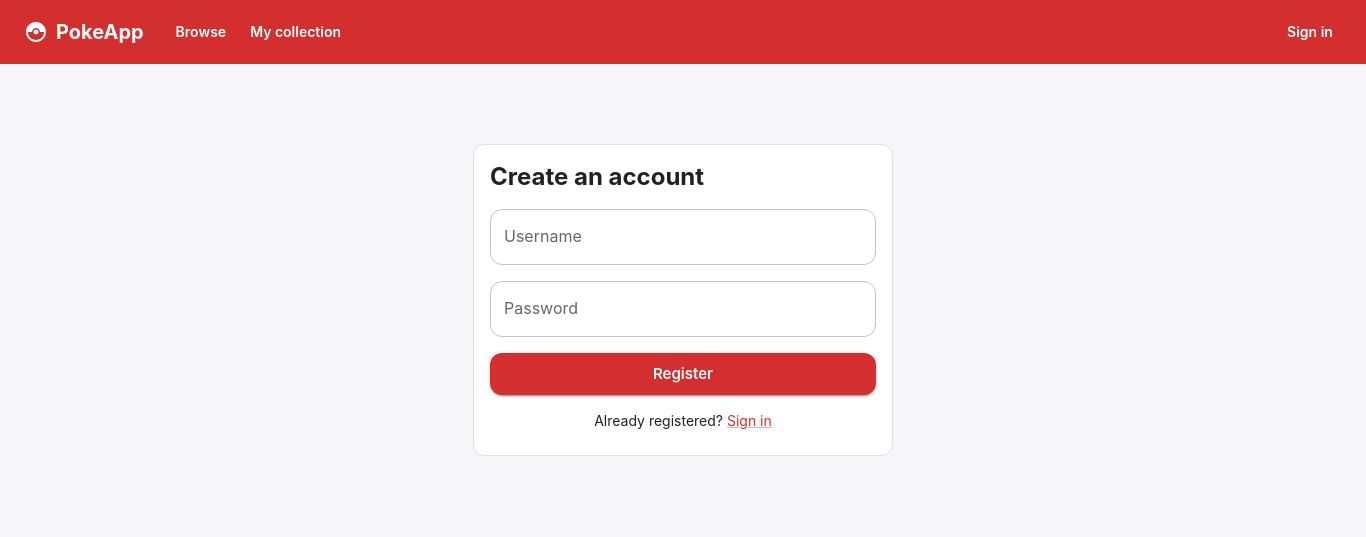
it: Authentication › maps server field errors on registration
Type "ash" into the field labelled "Username".
click(683, 237); type("ash")  # box [490, 209, 876, 265]
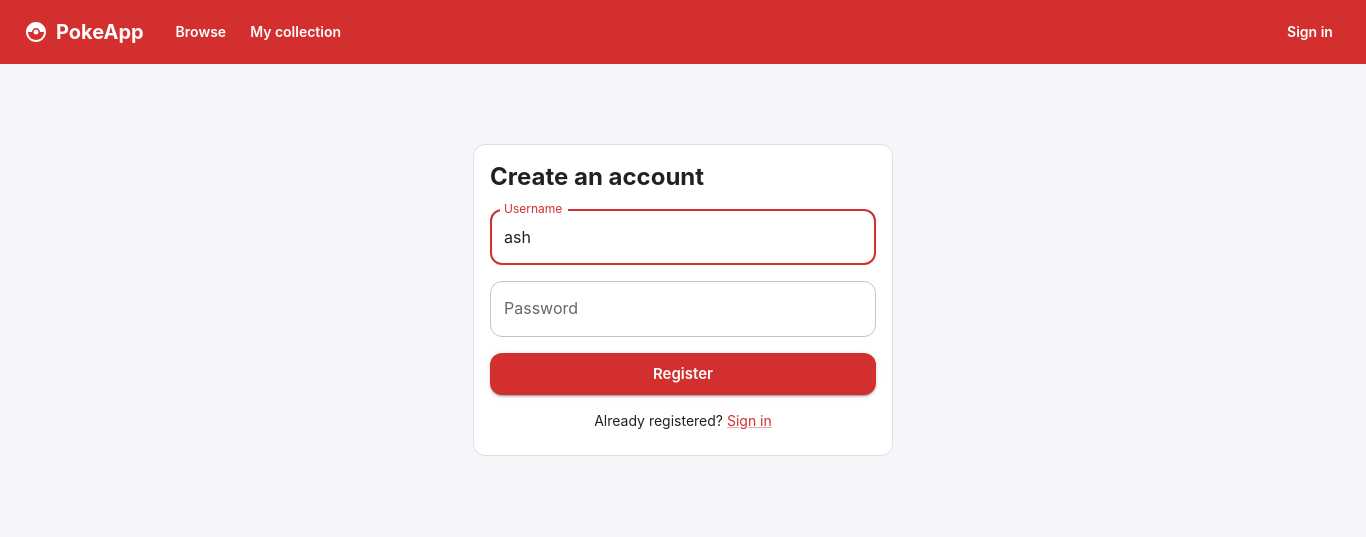
Type "pikachu123" into the password field labelled "Password".
click(683, 309); type("pikachu123")  # box [490, 281, 876, 337]
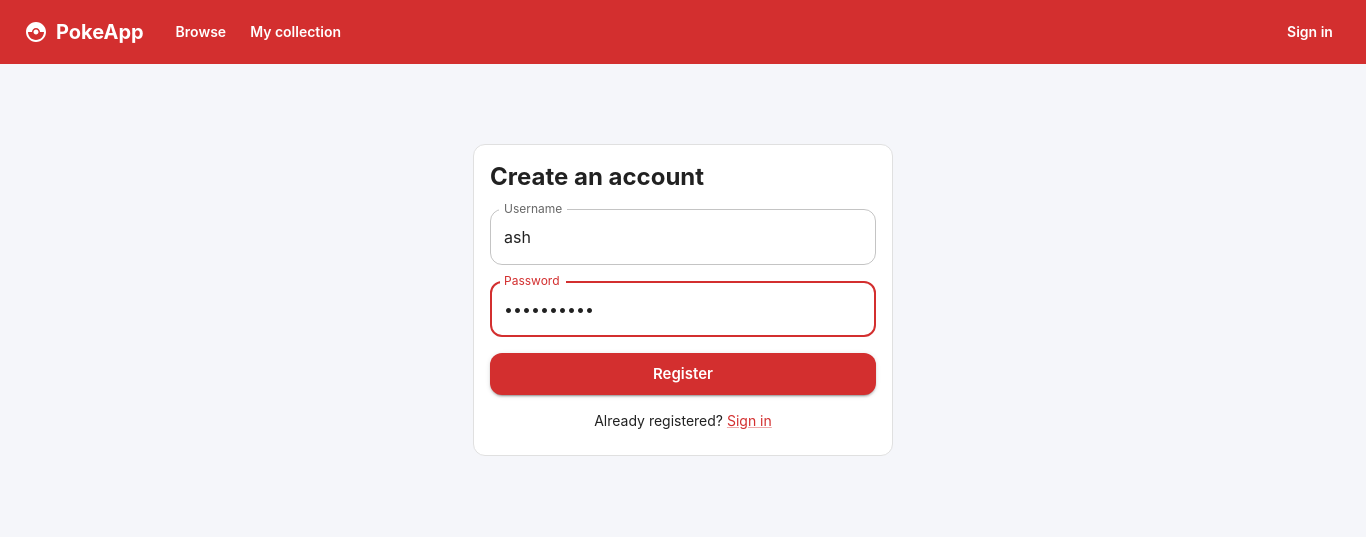
Click the button "Register".
click(683, 374)  # box [490, 353, 876, 395]
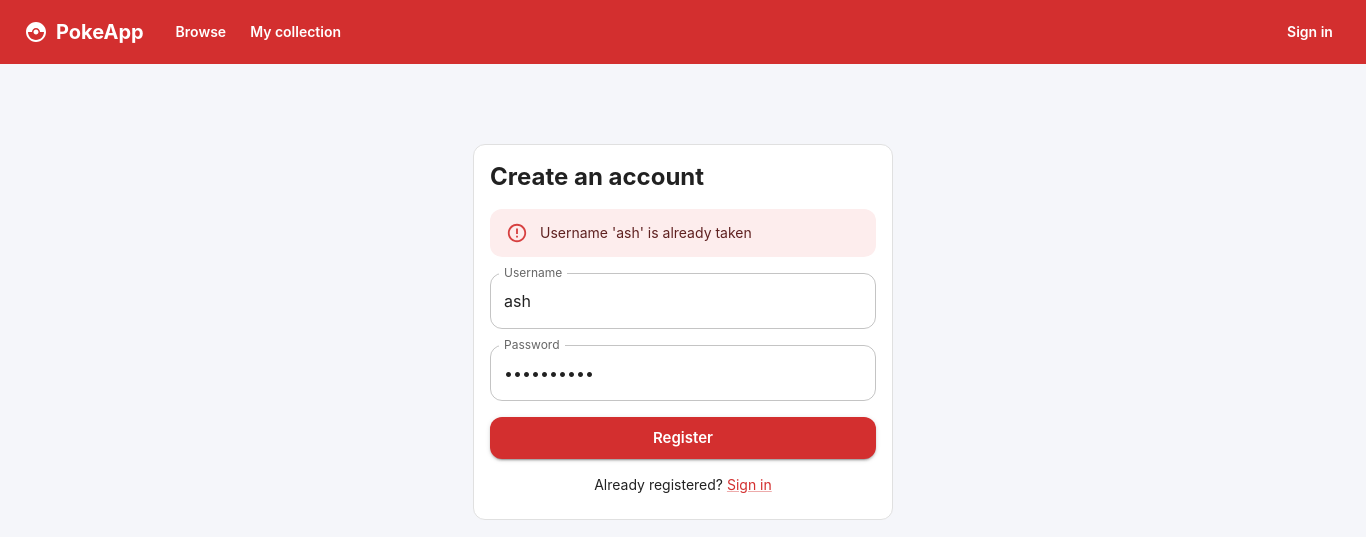
Check: the text "Username 'ash' is already taken" is shown, box [540, 224, 752, 241]
